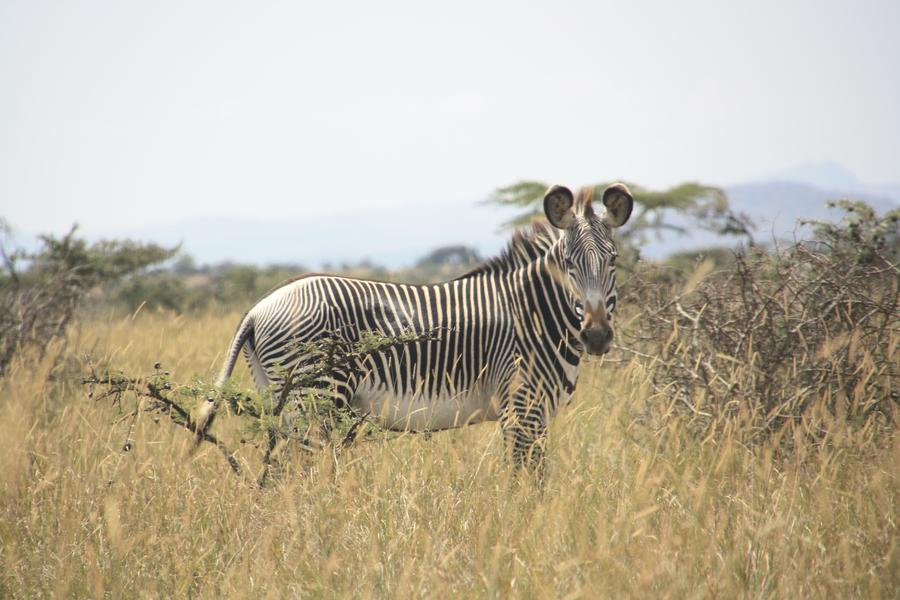zebra_grevys: (244, 270, 566, 409)
